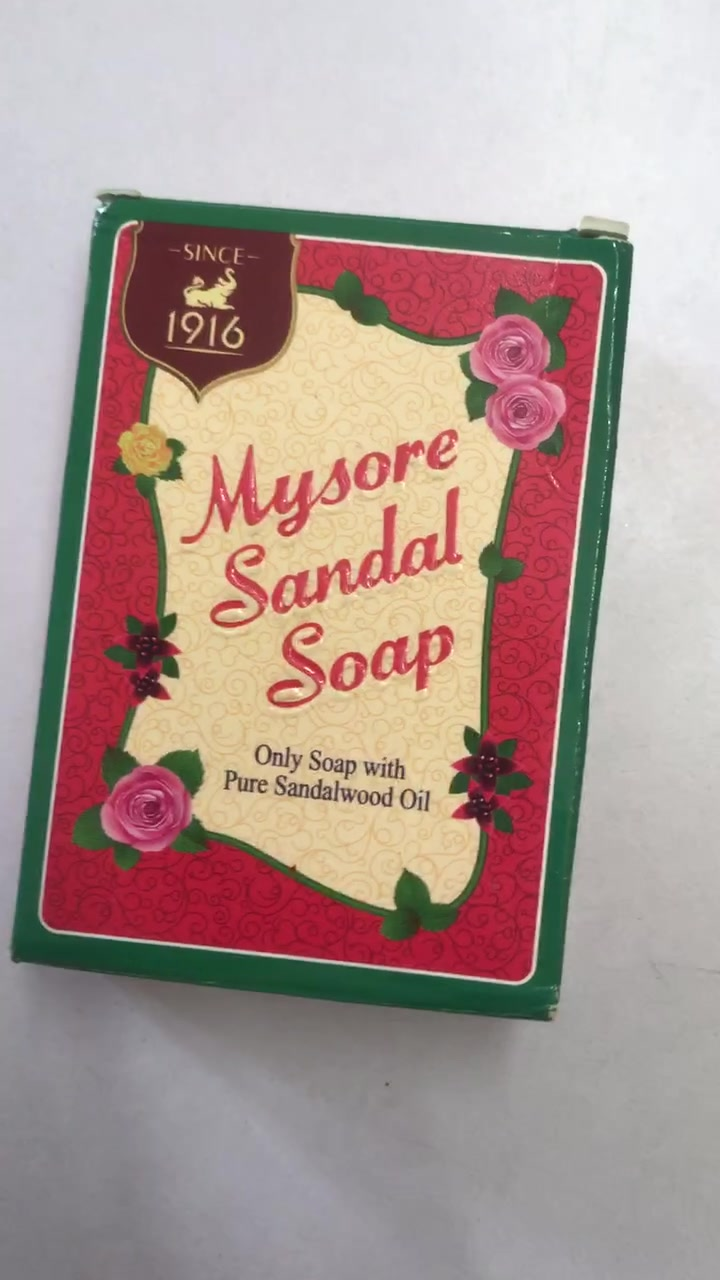mysore sandal soap: (12, 198, 630, 1025)
